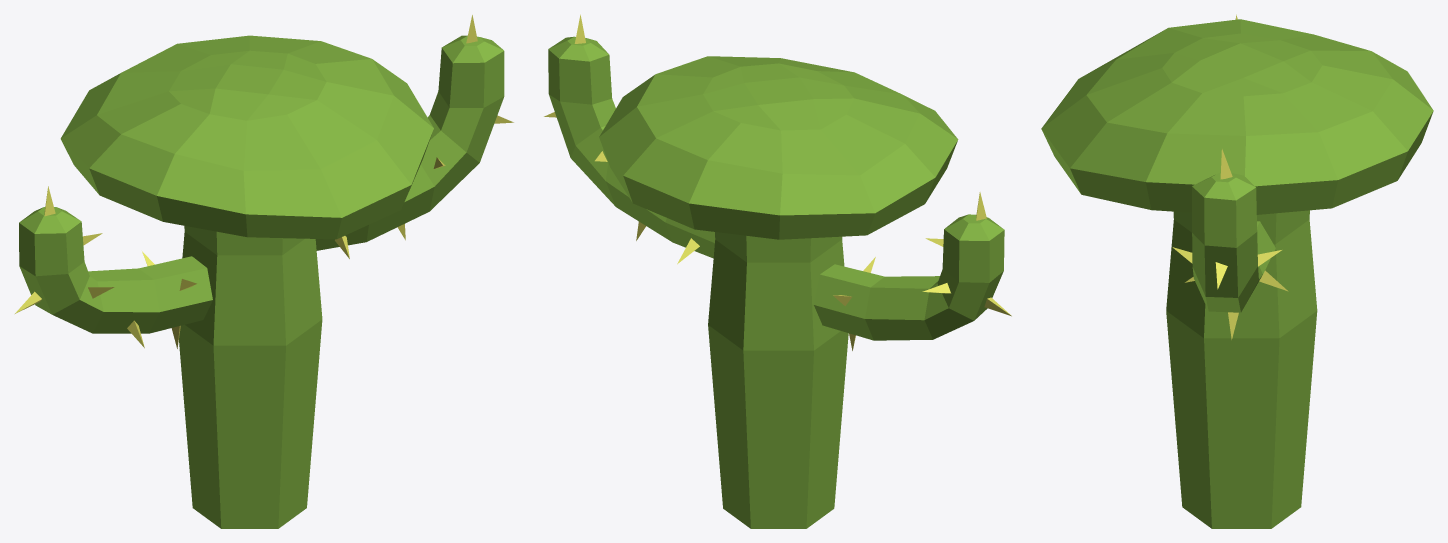
Rendered from Cactus.fbx.
3 renders of one model, left to right at view 1: azimuth 30°, elevation 25°; view 2: azimuth 150°, elevation 25°; view 3: azimuth 270°, elevation 25°, orthographic. The views are drawn at different scales.
Parts seen in each view (by area): view 1: 柱体.001; view 2: 柱体.001; view 3: 柱体.001.
Boxes of the visible parts, x1,y1,x2,y2 form: 柱体.001: (15,15,513,528); 柱体.001: (544,14,1011,528); 柱体.001: (1041,14,1433,528).
Size of the model in its own units: 407 by 271 by 356.
